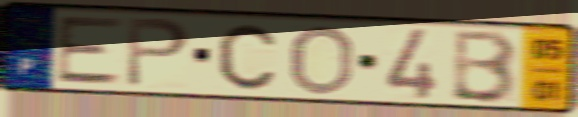4: (382, 24, 441, 103)
B: (448, 28, 520, 106)
C: (215, 22, 279, 93)
E: (53, 15, 128, 87)
O: (286, 22, 357, 97)
P: (124, 15, 193, 91)
